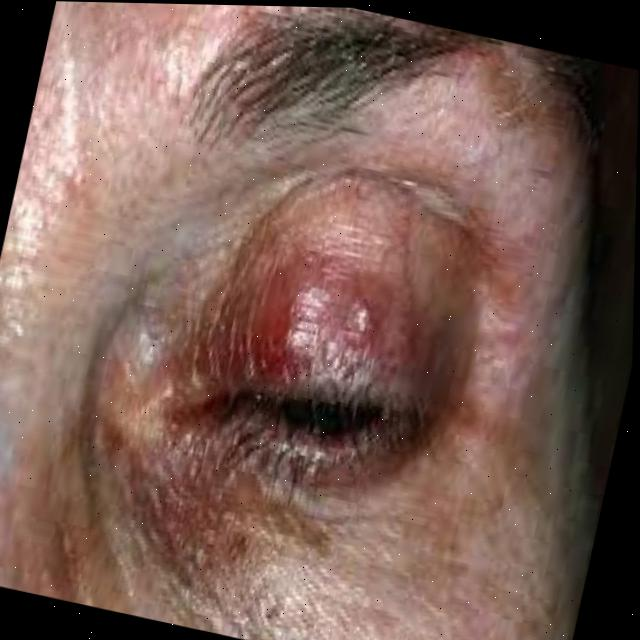Rosacea: (249, 240, 407, 373)
